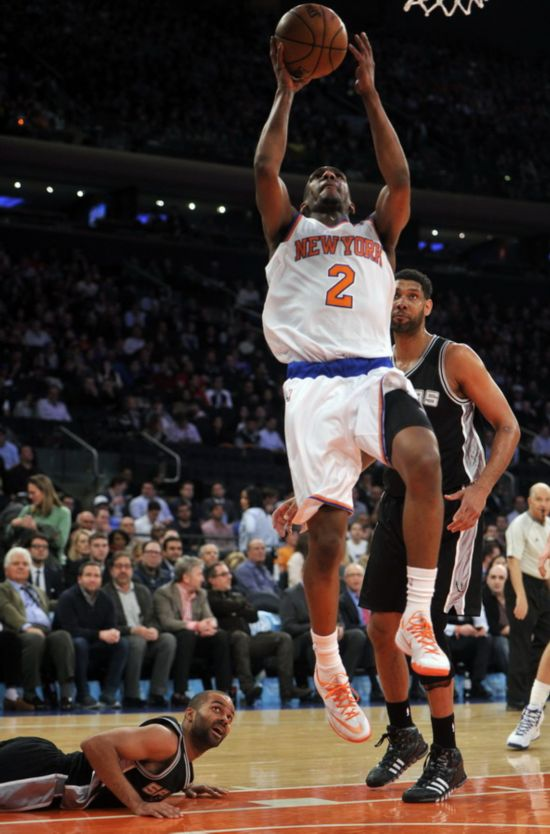10+: (1, 1, 550, 834)
down: (1, 666, 277, 826)
